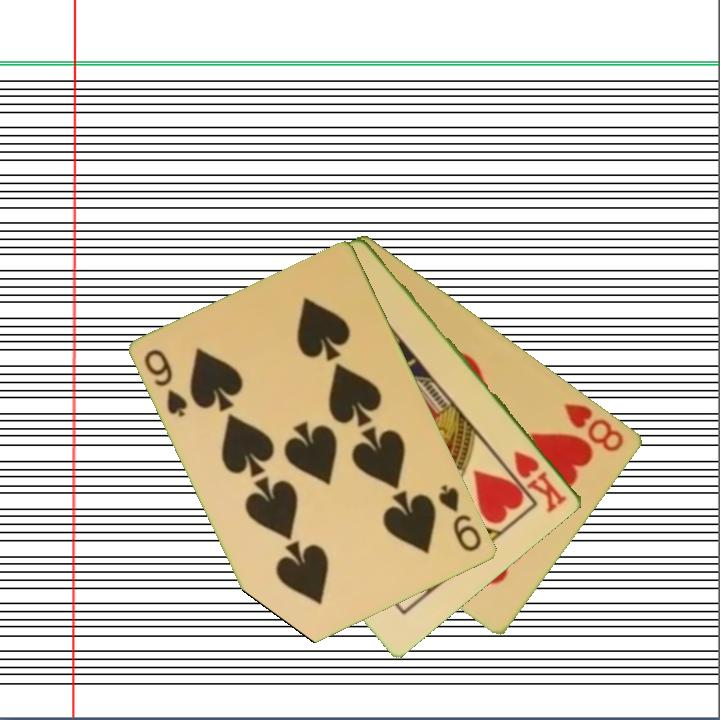8h: (561, 399, 628, 455)
9s: (141, 345, 192, 421), (435, 481, 485, 555)
Kh: (510, 446, 571, 516)
